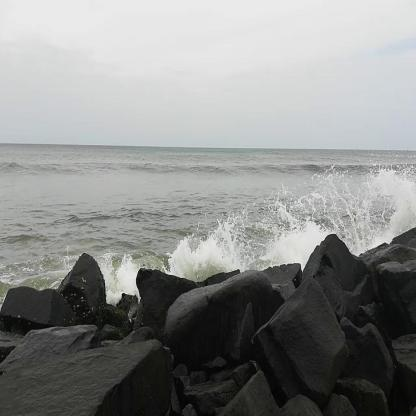other: (258, 171, 408, 243)
